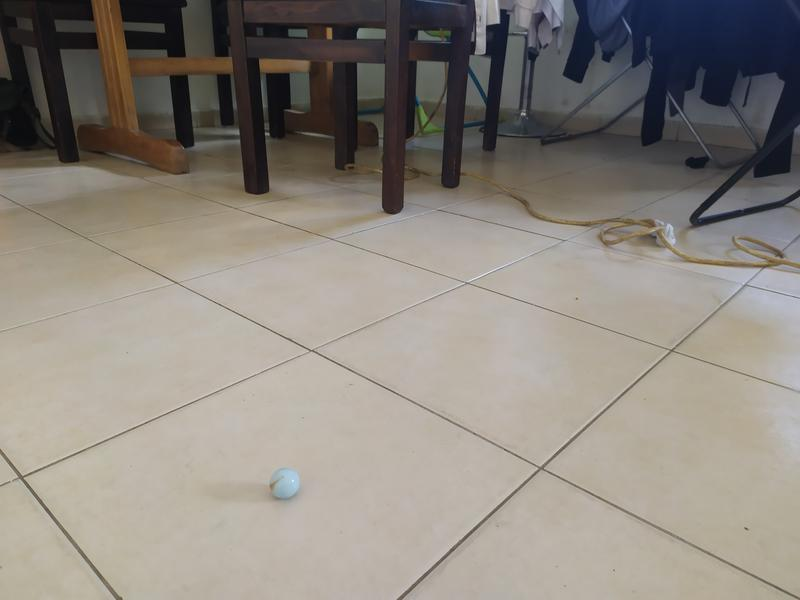Warning: (268, 465, 303, 501)
